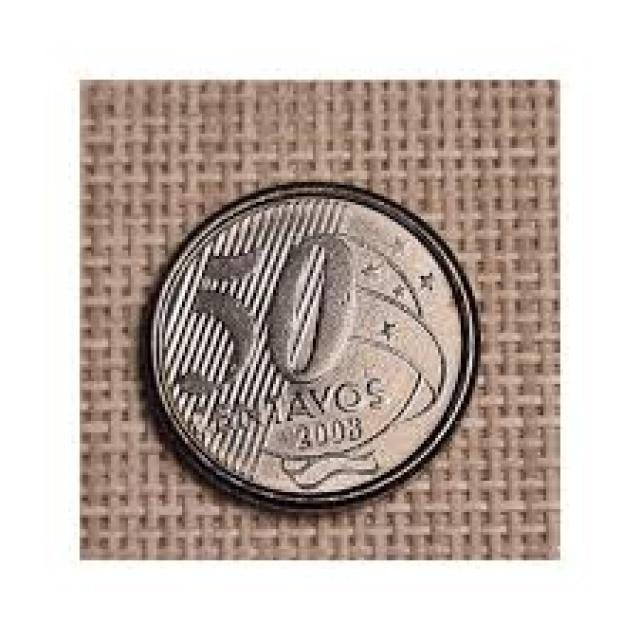50 cent: (144, 175, 488, 507)
